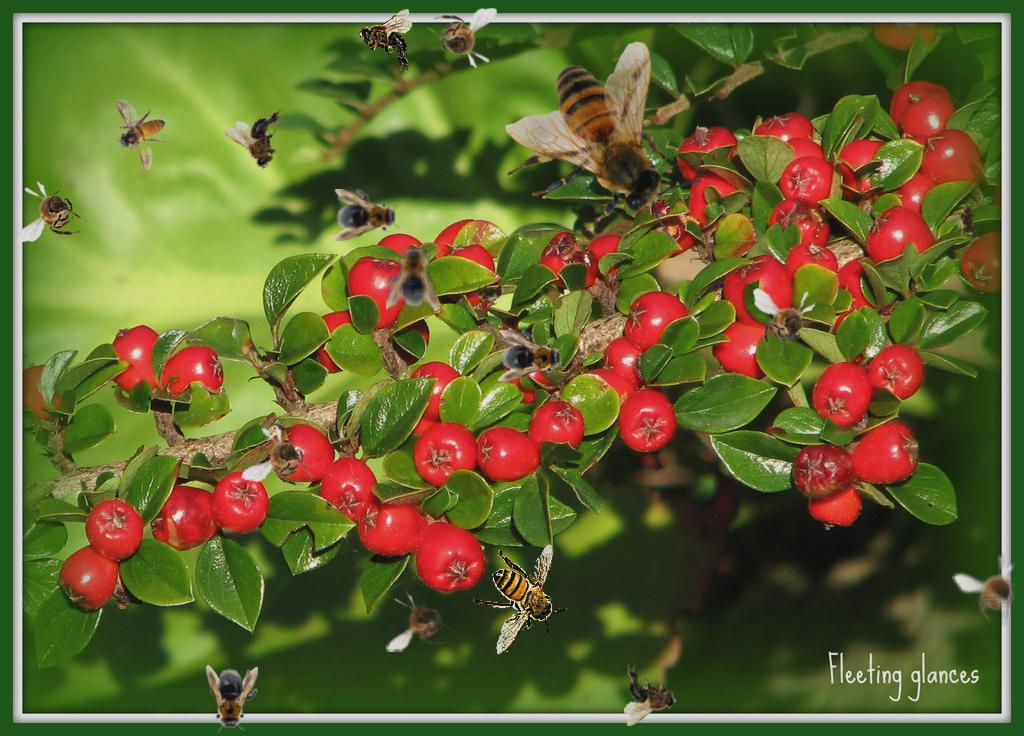Bee: (505, 41, 704, 245), (473, 544, 567, 655), (951, 544, 1024, 636), (240, 419, 325, 497), (223, 105, 300, 177), (753, 283, 820, 359), (17, 181, 87, 242), (427, 8, 497, 69), (386, 591, 456, 652), (116, 99, 166, 170), (498, 330, 566, 382), (206, 665, 258, 733), (333, 189, 401, 241), (386, 243, 438, 311), (624, 664, 677, 726), (359, 9, 412, 71), (469, 281, 509, 303), (957, 200, 979, 240)
